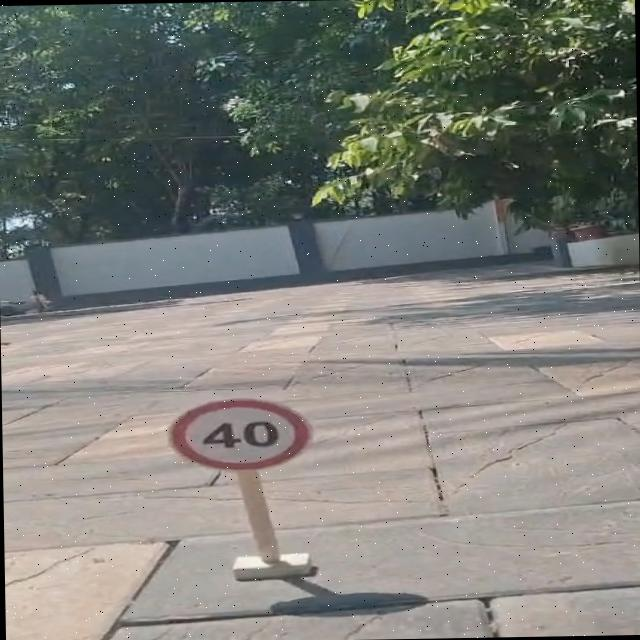Speed40: (165, 395, 316, 475)
